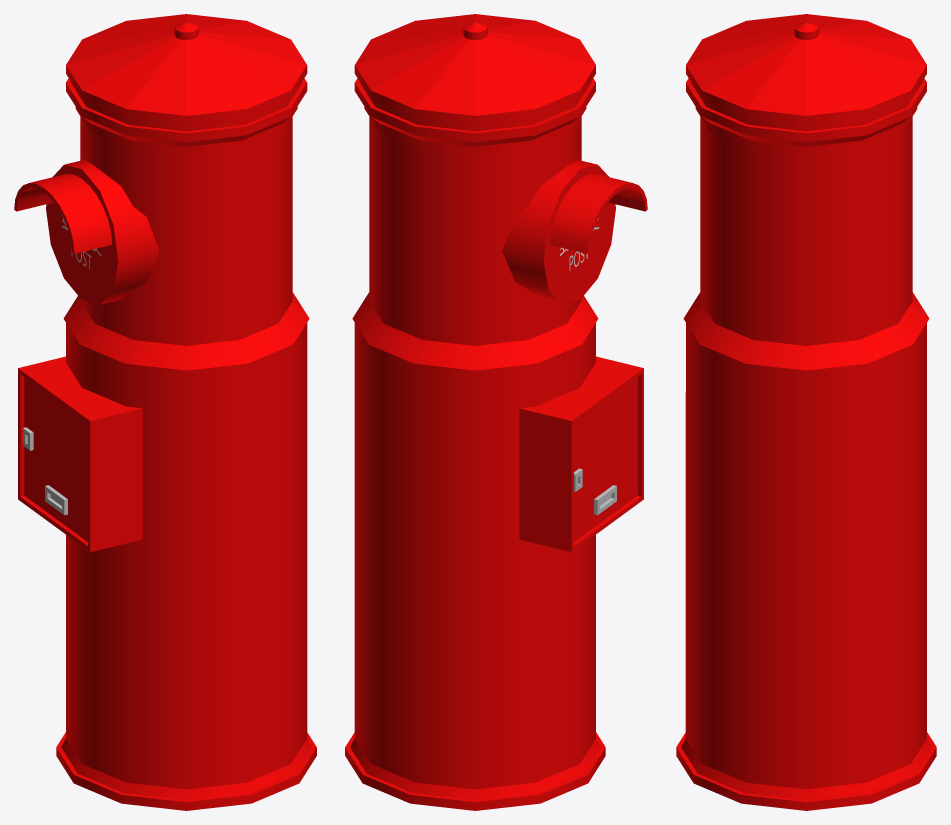
The model's file is YuubinPost02.obj.
3 views of the same model, side by side, from view 1: azimuth 30°, elevation 25°; view 2: azimuth 150°, elevation 25°; view 3: azimuth 270°, elevation 25° (orthographic).
Visible parts, largest first — view 1: YuubinPost02; view 2: YuubinPost02; view 3: YuubinPost02.
Part boxes in pixels (x1,y1,x2,y2): YuubinPost02: (14, 14, 316, 810); YuubinPost02: (345, 14, 647, 810); YuubinPost02: (676, 14, 936, 810).
Bounding box in the file's own units: 0.6104 × 1.68 × 0.54.
